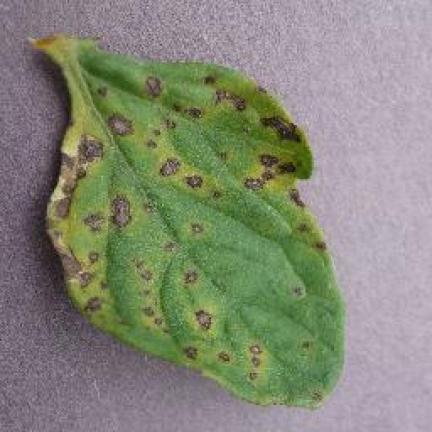disease: (34, 35, 343, 405)
leaf: (218, 351, 228, 361), (140, 289, 148, 295)
